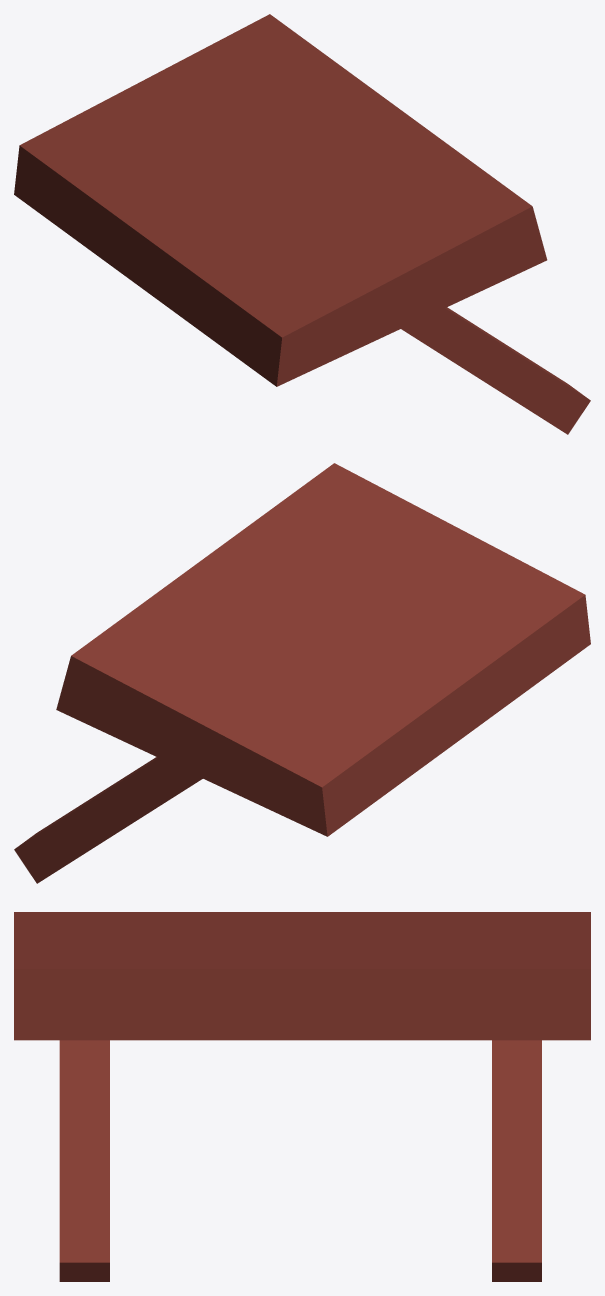
File: eaves_0.fbx
The picture shows the model from 3 angles, top to bottom: view 1: azimuth 30°, elevation 25°; view 2: azimuth 150°, elevation 25°; view 3: azimuth 270°, elevation 25°; orthographic projection. The views are drawn at different scales.
Visible parts, largest first — view 1: eaves_0; view 2: eaves_0; view 3: eaves_0.
Boxes of the visible parts, x1,y1,x2,y2 form: eaves_0: (14, 14, 590, 434); eaves_0: (14, 463, 590, 883); eaves_0: (14, 912, 590, 1281).
Bounding box in the file's own units: 213 × 157 × 290.
